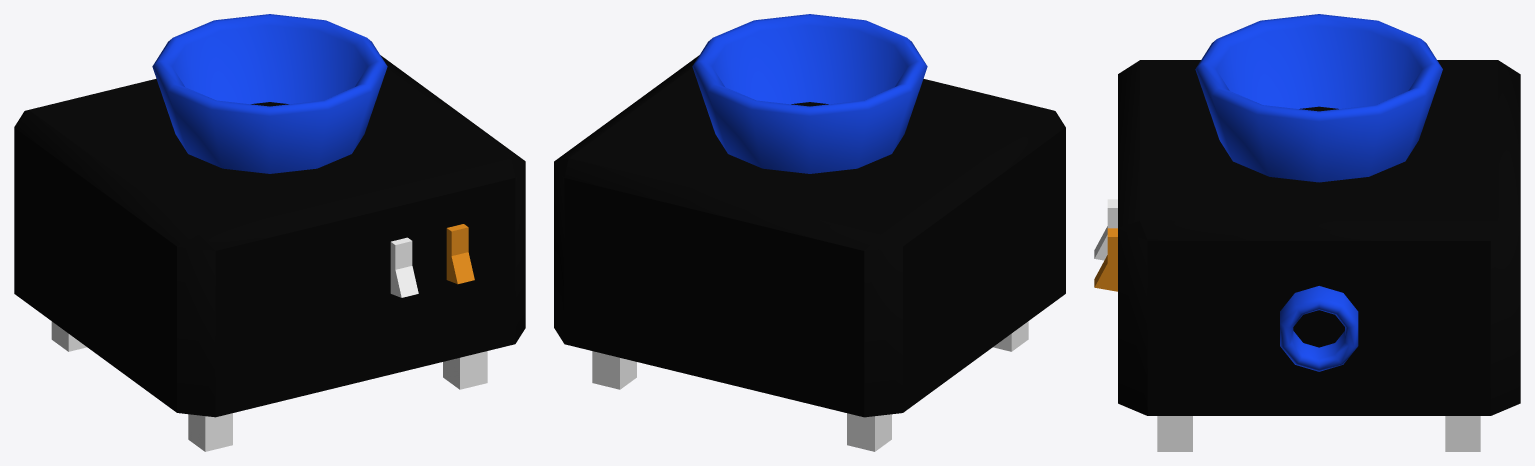
Rendered from bolognese machine.FBX.
3 renders of one model, left to right at view 1: azimuth 30°, elevation 25°; view 2: azimuth 150°, elevation 25°; view 3: azimuth 270°, elevation 25°, orthographic. The views are drawn at different scales.
Parts seen in each view (by area): view 1: Object245; view 2: Object245; view 3: Object245.
Boxes of the visible parts, x1,y1,x2,y2 form: Object245: (14,14,525,451); Object245: (554,14,1065,451); Object245: (1094,14,1520,451).
Size of the model in its own units: 1.9 by 1.45 by 1.77.
